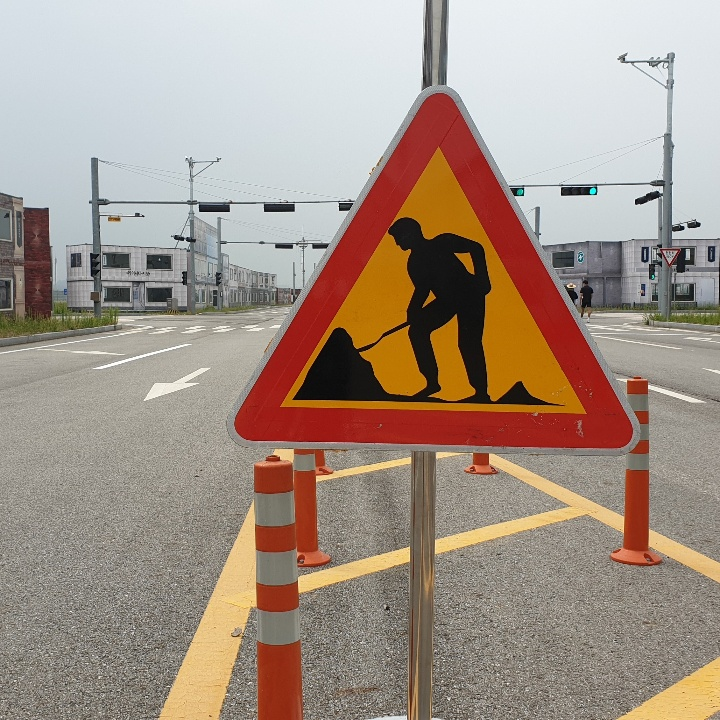const: (288, 206, 575, 409)
